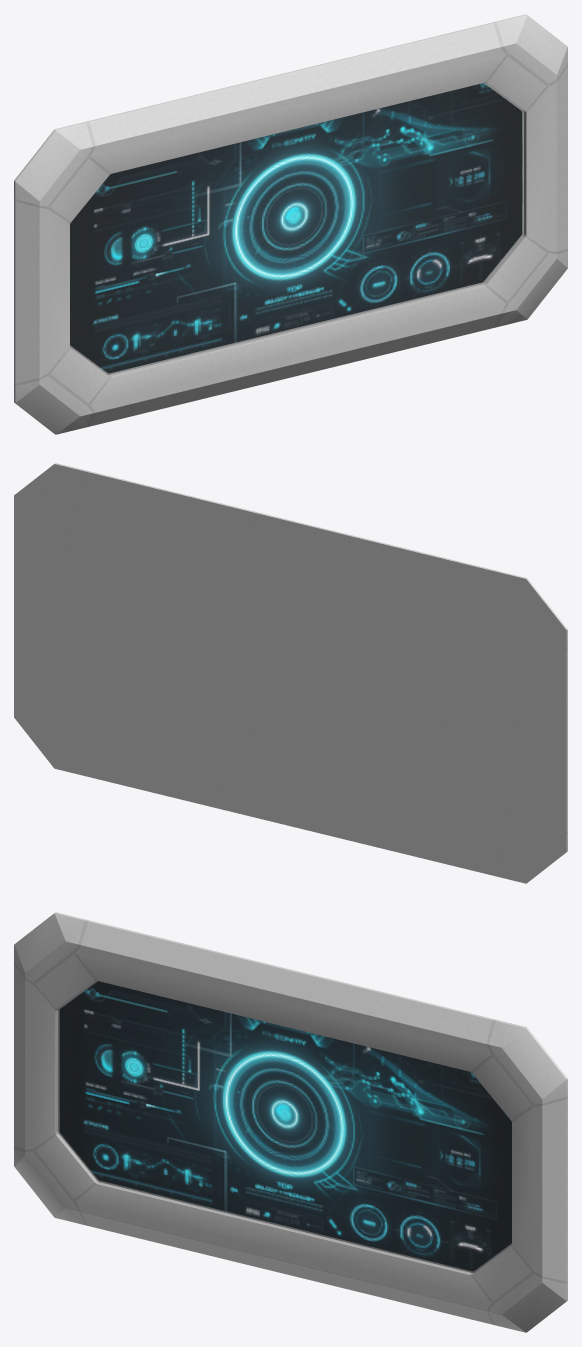
The model's file is Display02_1.FBX.
3 views of the same model, one above another, from view 1: azimuth 30°, elevation 25°; view 2: azimuth 150°, elevation 25°; view 3: azimuth 330°, elevation 25° (orthographic).
Parts seen in each view (by area): view 1: Display02_1; view 2: Display02_1; view 3: Display02_1.
Part boxes in pixels (x1,y1,x2,y2): Display02_1: [14, 14, 567, 434]; Display02_1: [14, 463, 567, 883]; Display02_1: [14, 912, 567, 1332].
Size of what is drawn, in the model's own units: 1.19 by 0.6266 by 0.0297.
